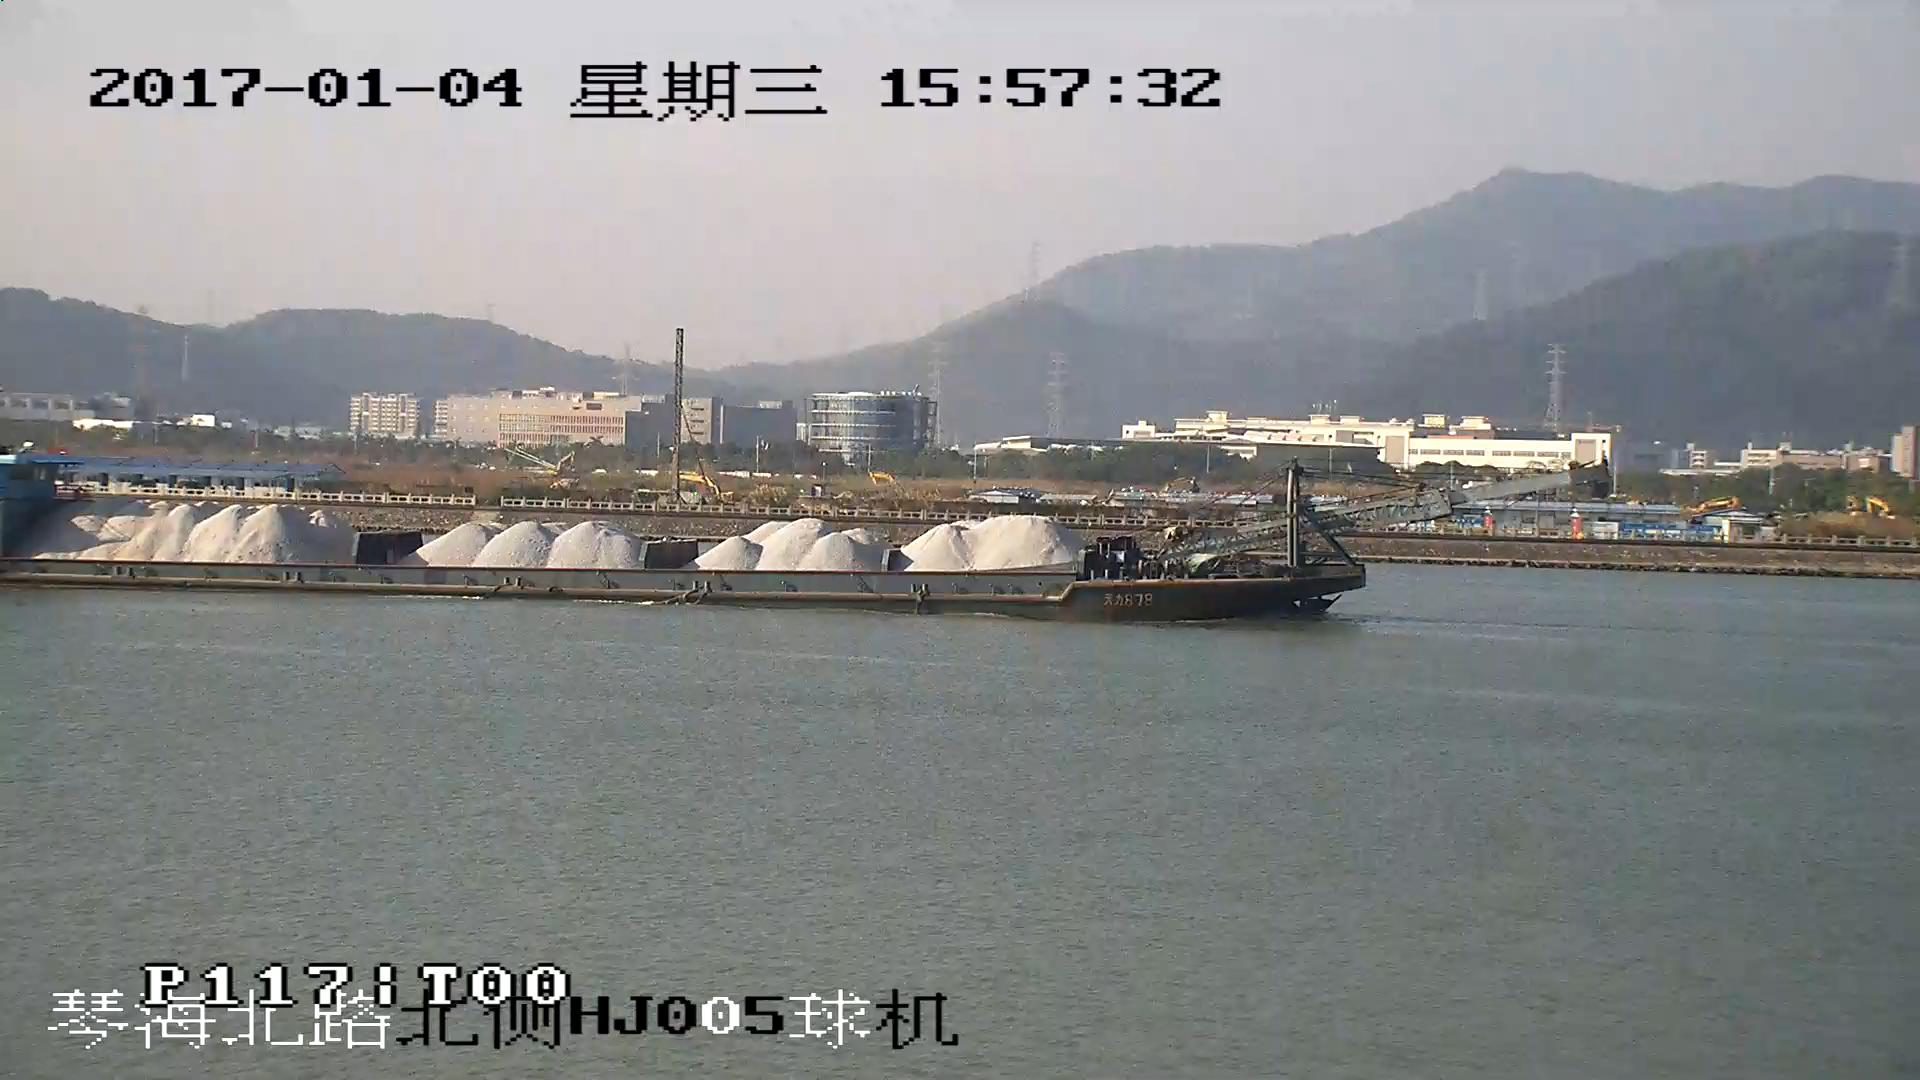ore carrier: (1, 460, 1599, 616)
